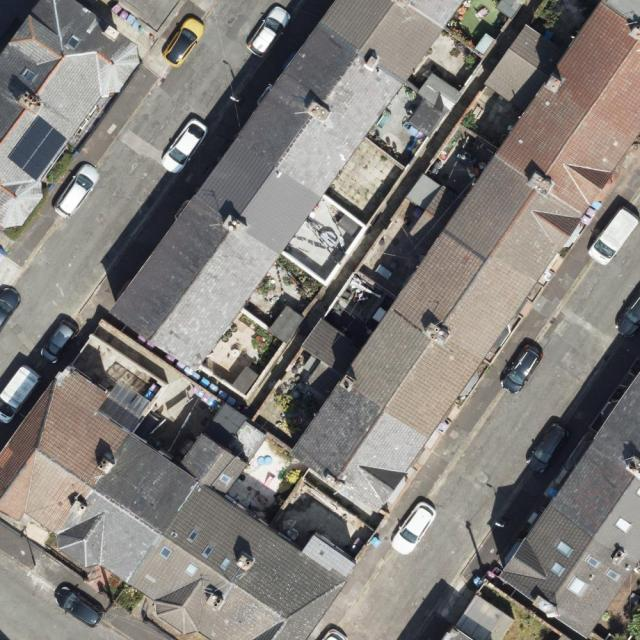roof: (287, 0, 640, 520), (99, 0, 471, 375), (0, 363, 360, 640), (498, 374, 640, 640), (0, 0, 143, 231)
skylight: (15, 64, 40, 85), (568, 575, 588, 598), (609, 515, 633, 534), (59, 30, 81, 50), (555, 538, 576, 558), (183, 526, 202, 548), (182, 558, 199, 578), (216, 470, 235, 486), (158, 543, 173, 560), (547, 561, 563, 576), (199, 541, 212, 559), (584, 552, 598, 566), (216, 555, 229, 569), (606, 569, 620, 579)
solar: (7, 114, 73, 182)
